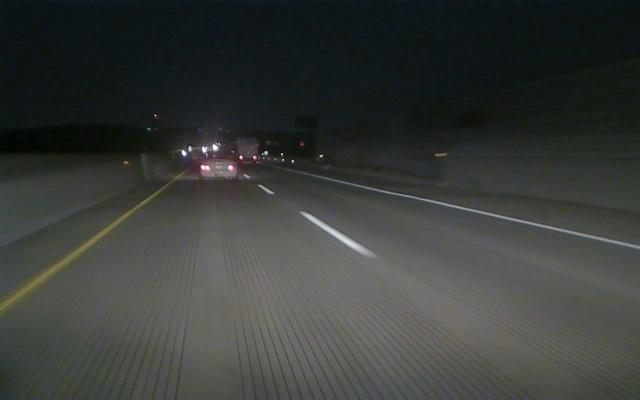lane: (307, 173, 639, 251), (1, 202, 143, 314), (257, 184, 379, 259)
